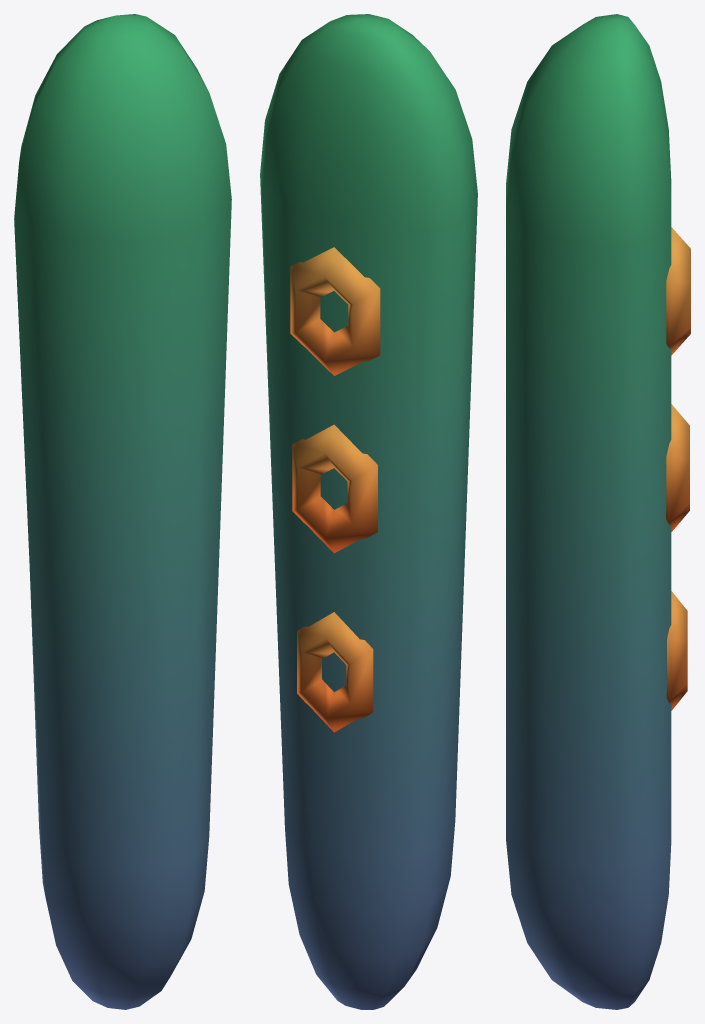
File: Squiddy_LowLeg.FBX
The picture shows the model from 3 angles, left to right: view 1: azimuth 30°, elevation 25°; view 2: azimuth 150°, elevation 25°; view 3: azimuth 270°, elevation 25°; orthographic projection.
Visible parts, largest first — view 1: Lower_Leg; view 2: Lower_Leg; view 3: Lower_Leg.
Boxes of the visible parts, x1,y1,x2,y2 form: Lower_Leg: (14,14,231,1009); Lower_Leg: (260,14,477,1009); Lower_Leg: (506,14,690,1009).
Bounding box in the file's own units: 6.33 × 29.5 × 5.01.
